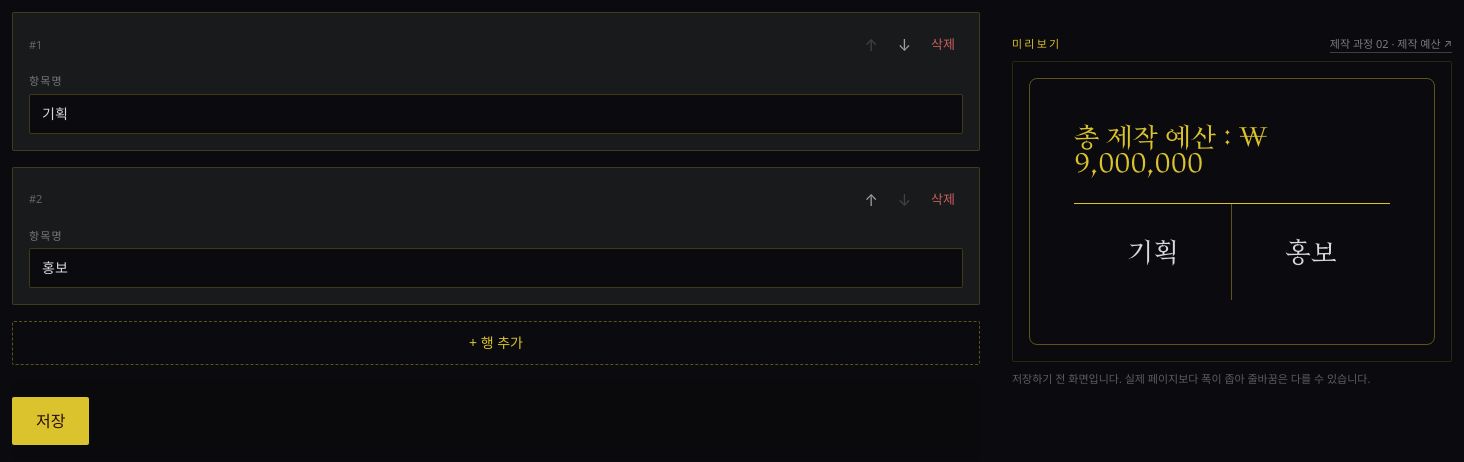
Scenario: ListPreview — 편집 중인 값을 그대로 그린다 › 행을 지우면 미리보기에서도 사라진다
Click the button with aria-label "행 삭제". click: (943, 45)
box: [923,29,963,61]
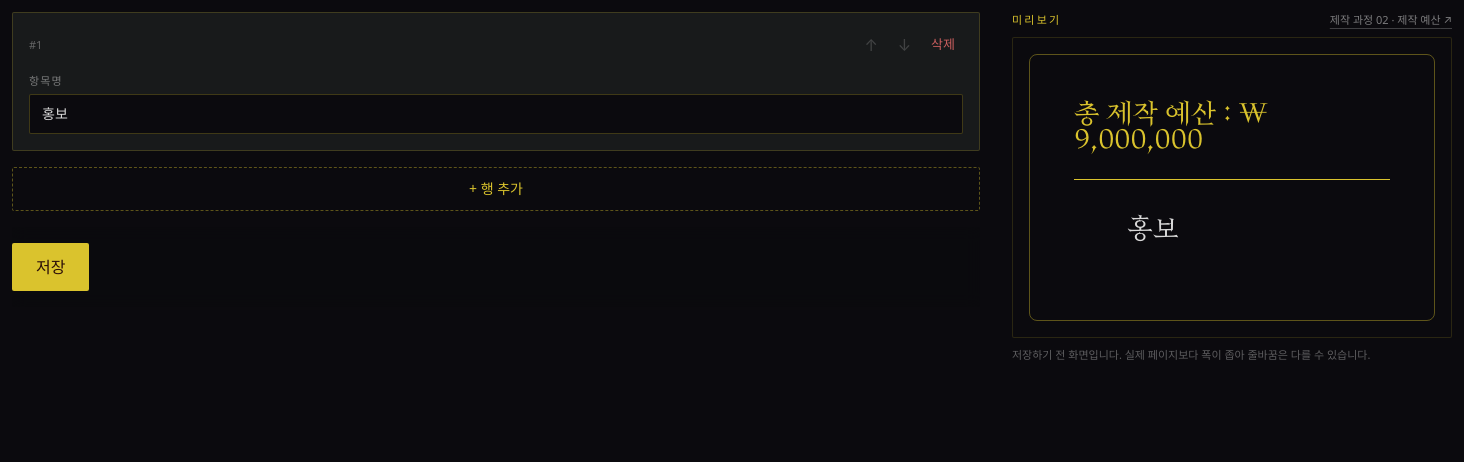
Expected: the list item "홍보" is shown, [1127,208,1179,245]
Result: the list item "기획" is gone
